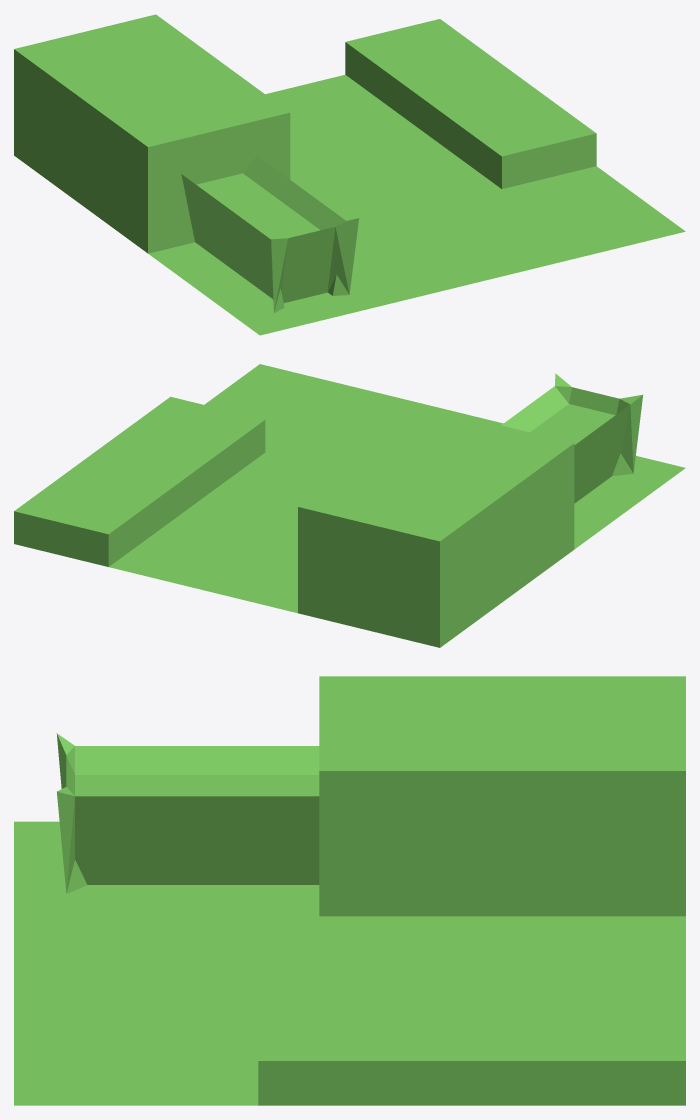
Rendered from thirdFloorTile.dae.
3 views of the same model, one above another, from view 1: azimuth 30°, elevation 25°; view 2: azimuth 150°, elevation 25°; view 3: azimuth 270°, elevation 25° (orthographic). The views are drawn at different scales.
Visible parts, largest first — view 1: Plane; view 2: Plane; view 3: Plane.
Boxes of the visible parts, x1,y1,x2,y2 form: Plane: (14, 14, 685, 335); Plane: (14, 364, 685, 647); Plane: (14, 676, 685, 1105).
Bounding box in the file's own units: 16 × 16 × 3.82.
